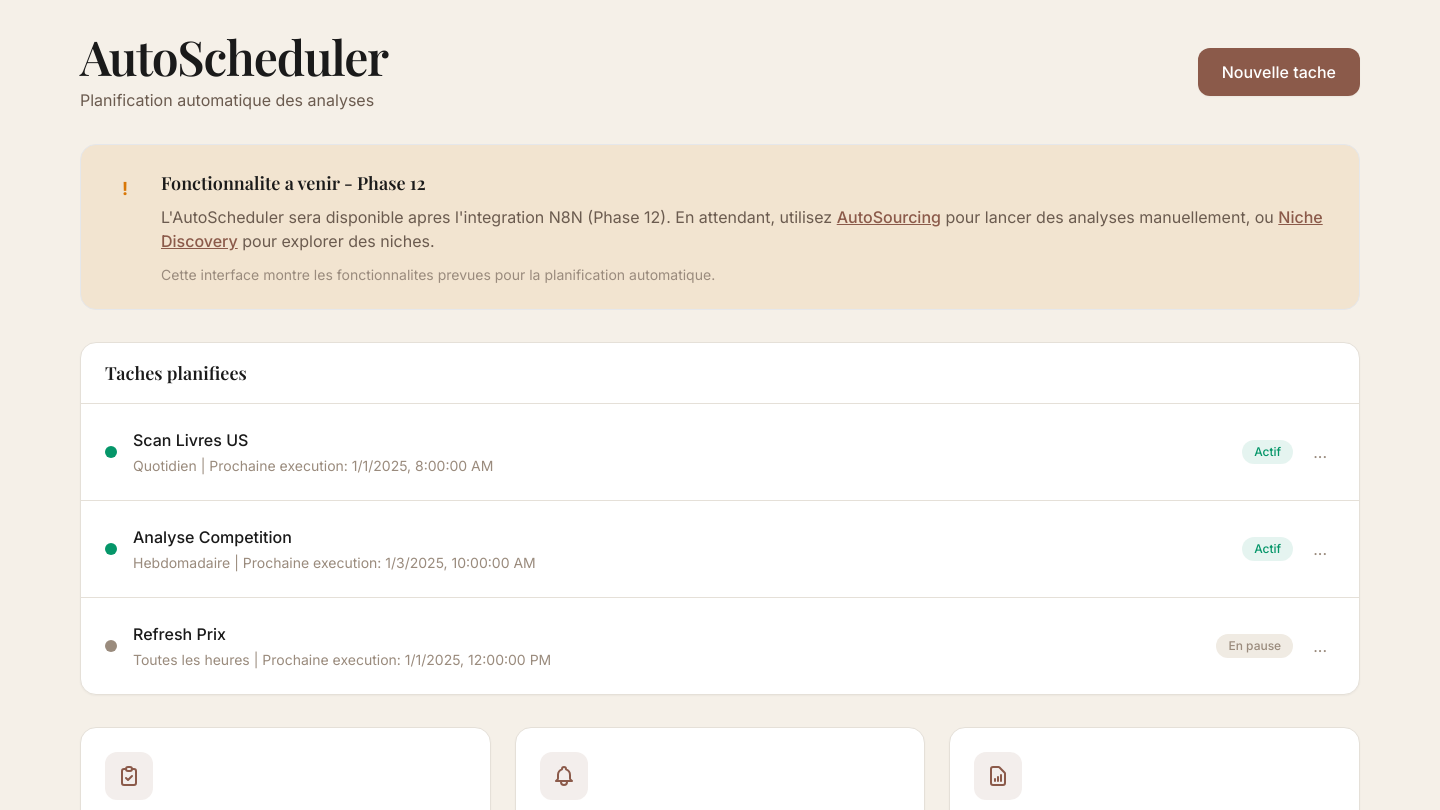
Scenario: AutoScheduler › closes modal on close button click
# Open modal
Click the button "Nouvelle tache": (1279, 72) [1198,48,1360,96]
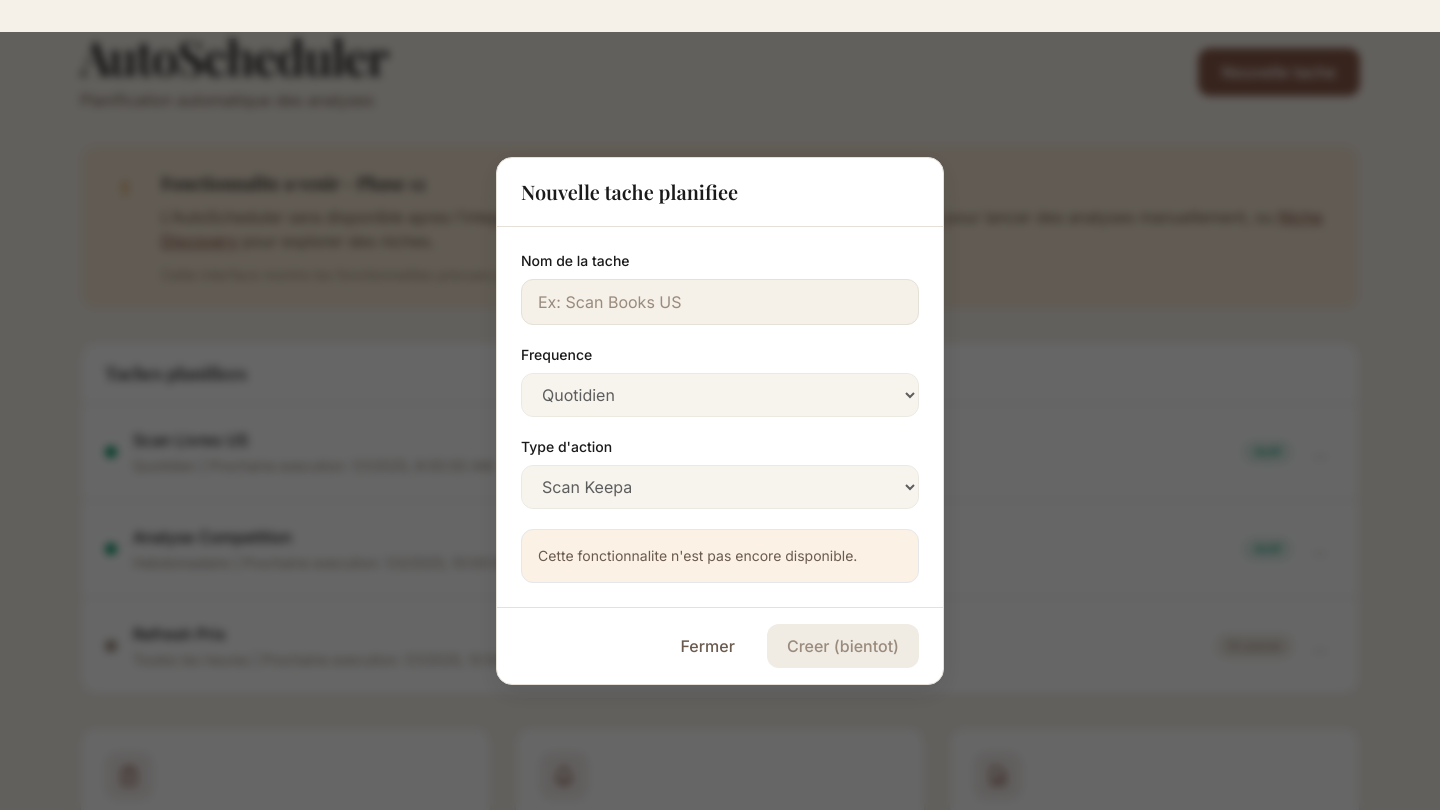
Expected: the heading "Nouvelle tache planifiee" is shown, [521,178,738,205]
# Close modal
Click the button "Fermer": (708, 646) [660,624,755,668]
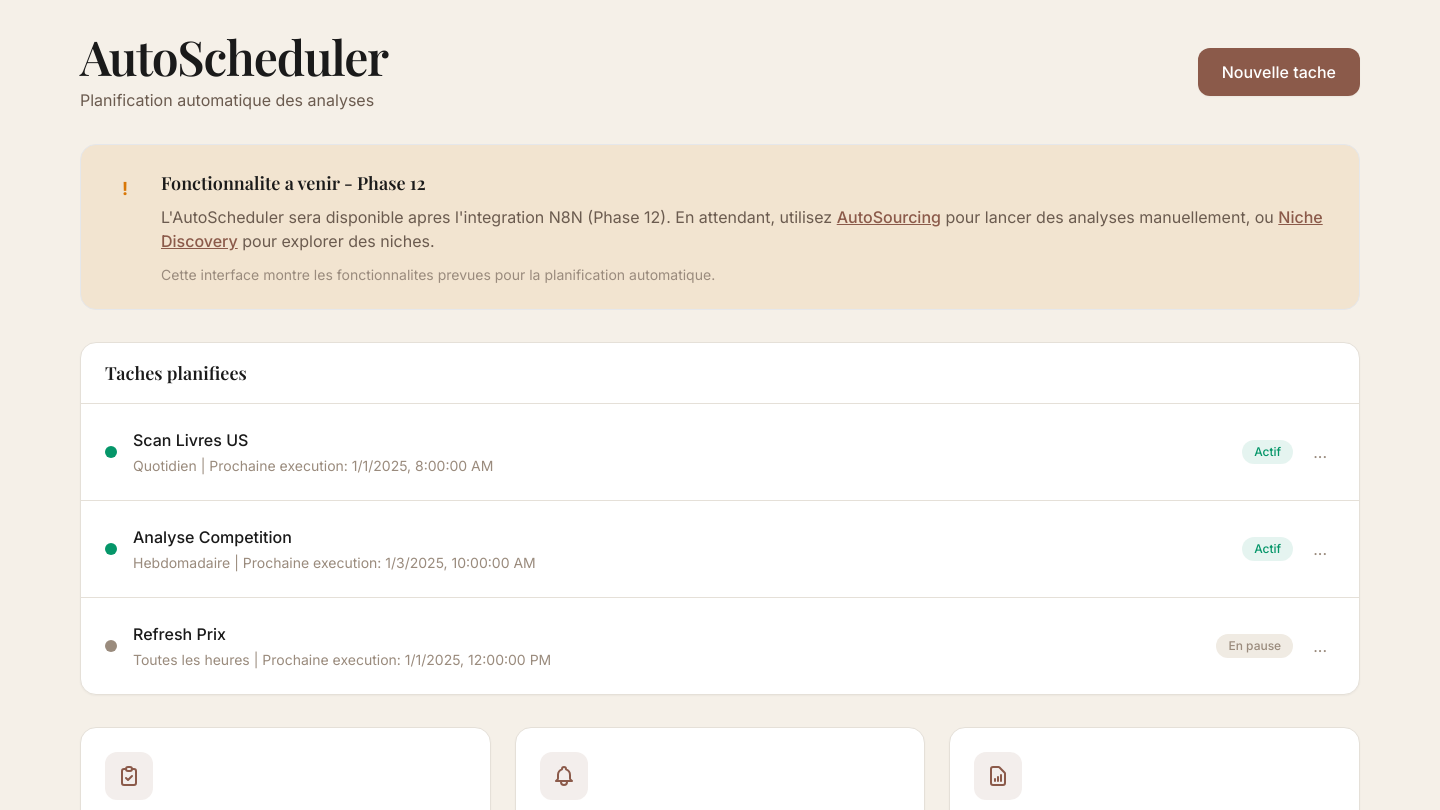
Expected: the heading "Nouvelle tache planifiee" is gone
